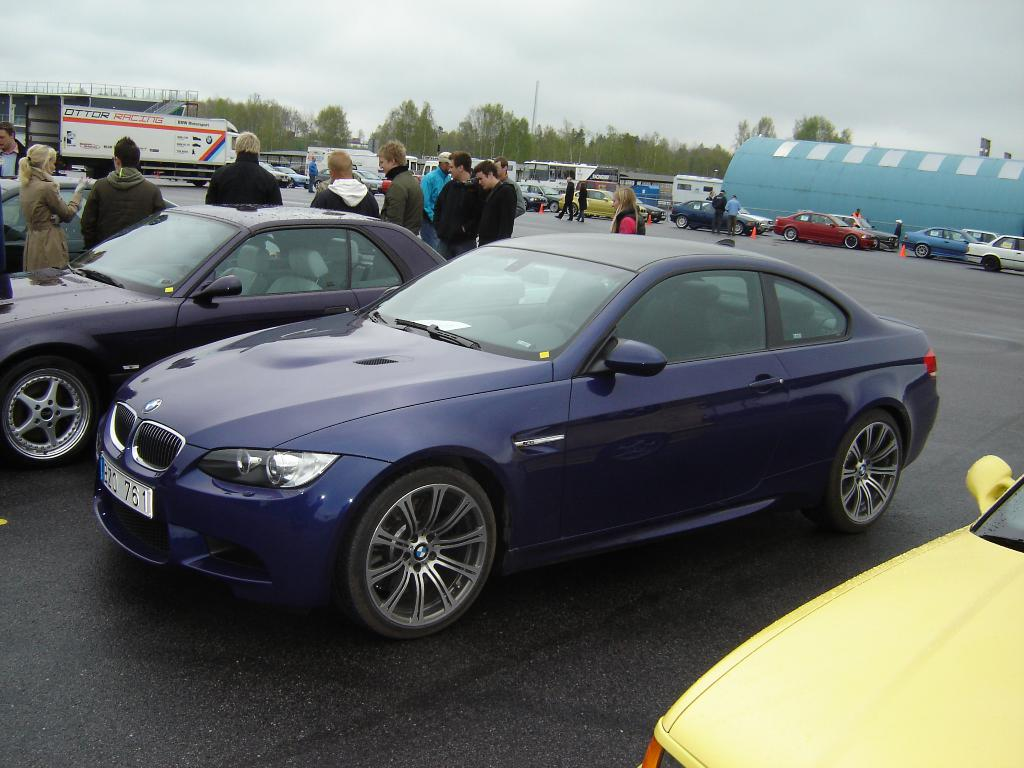Car: (92, 232, 940, 643), (0, 204, 524, 468), (636, 455, 1023, 767), (259, 161, 1023, 272), (0, 177, 173, 272), (0, 177, 22, 192)
